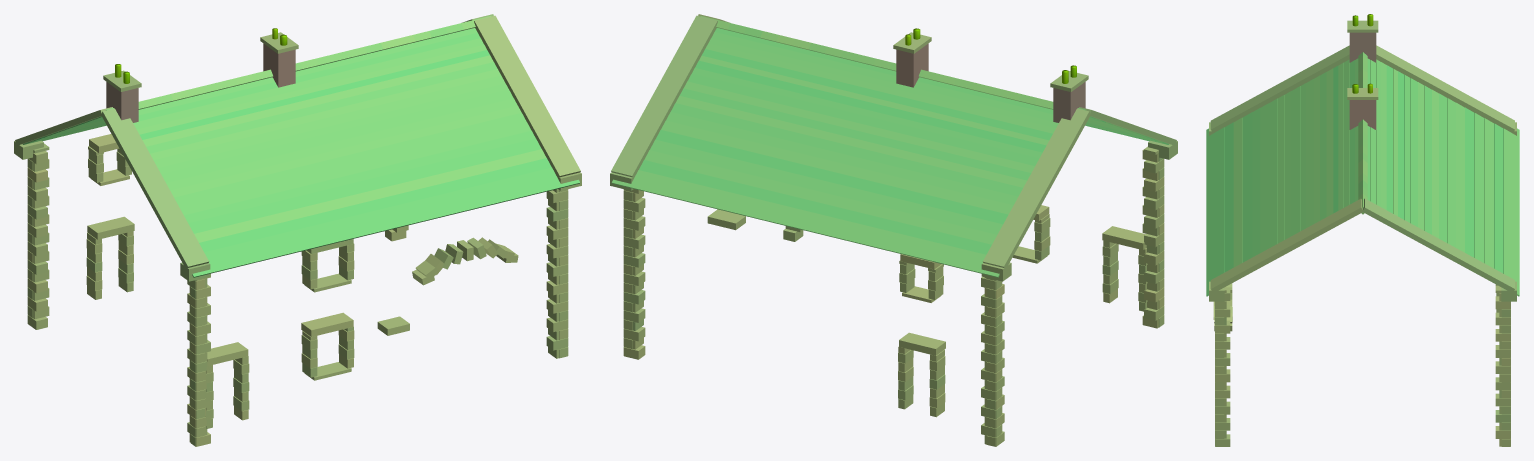
File: SM_Bld_183_Stone.glb
3 renders of one model, left to right at view 1: azimuth 30°, elevation 25°; view 2: azimuth 150°, elevation 25°; view 3: azimuth 270°, elevation 25°, orthographic. The views are drawn at different scales.
Visible parts, largest first — view 1: SM_Bld_183_Stone; view 2: SM_Bld_183_Stone; view 3: SM_Bld_183_Stone.
Part boxes in pixels (box(x1,y1,x2,y2)): SM_Bld_183_Stone: box(14, 14, 581, 446); SM_Bld_183_Stone: box(610, 14, 1177, 446); SM_Bld_183_Stone: box(1206, 14, 1519, 446).
Bounding box in the file's own units: 13.38 × 10.24 × 10.52.
